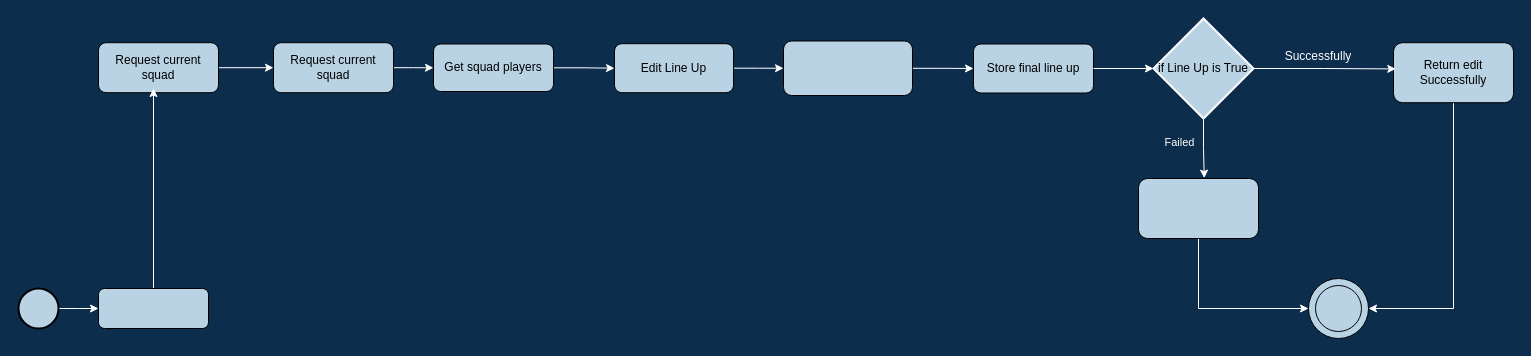
Some shapes in this 1531 by 356 pixel diagram are drawn without their labels. The box of each missing label's shape, as (x1, y1, x2, y2) in pixels:
Click "Line Up": (98, 288, 208, 328)
Return edit faild: (1138, 178, 1258, 238)
Send Final Edit: (782, 40, 912, 96)
